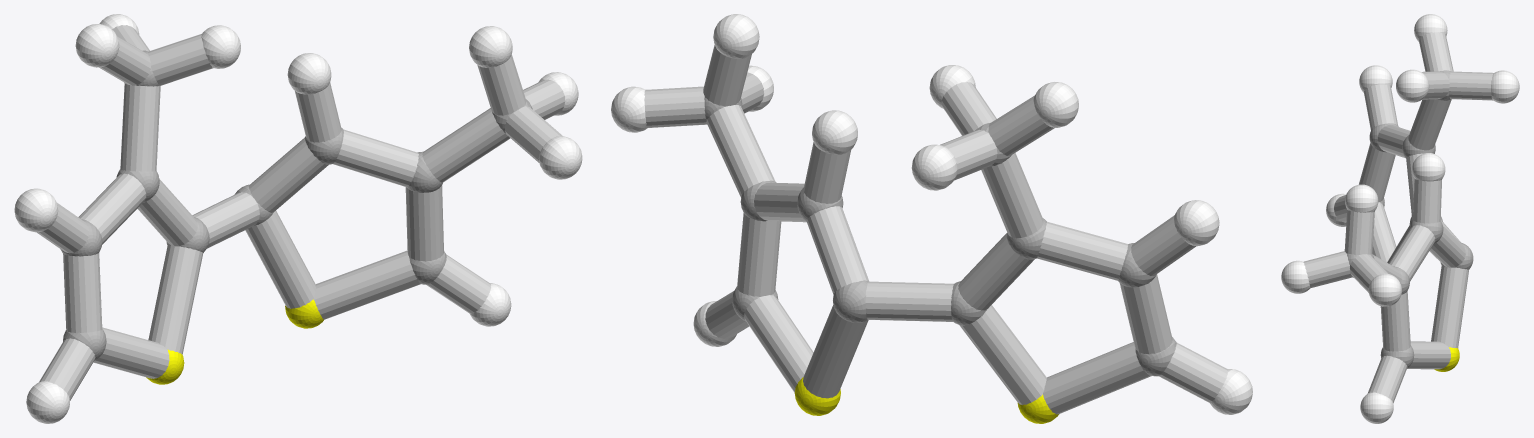
The model's file is Methylthiophene_Phi_50_Theta_200_Methylthiophene.glb.
3 views of the same model, side by side, from view 1: azimuth 30°, elevation 25°; view 2: azimuth 150°, elevation 25°; view 3: azimuth 270°, elevation 25° (orthographic). The views are drawn at different scales.
Parts seen in each view (by area): view 1: grp7965, grp3621, grp1, grp7241; view 2: grp7965, grp3621, grp1, grp7241; view 3: grp7965, grp3621, grp1, grp7241.
Boxes of the visible parts, x1,y1,x2,y2 form: grp7965: (36,25,565,400); grp3621: (14,14,582,423); grp1: (60,50,532,360); grp7241: (146,299,323,384); grp7965: (644,45,1228,414); grp3621: (611,14,1252,414); grp1: (704,97,1176,376); grp7241: (794,377,1059,423); grp7965: (1303,32,1493,403); grp3621: (1281,14,1519,423); grp1: (1346,70,1473,368); grp7241: (1434,347,1459,371).
Size of the model in its own units: 9.07 by 5.43 by 4.28.
